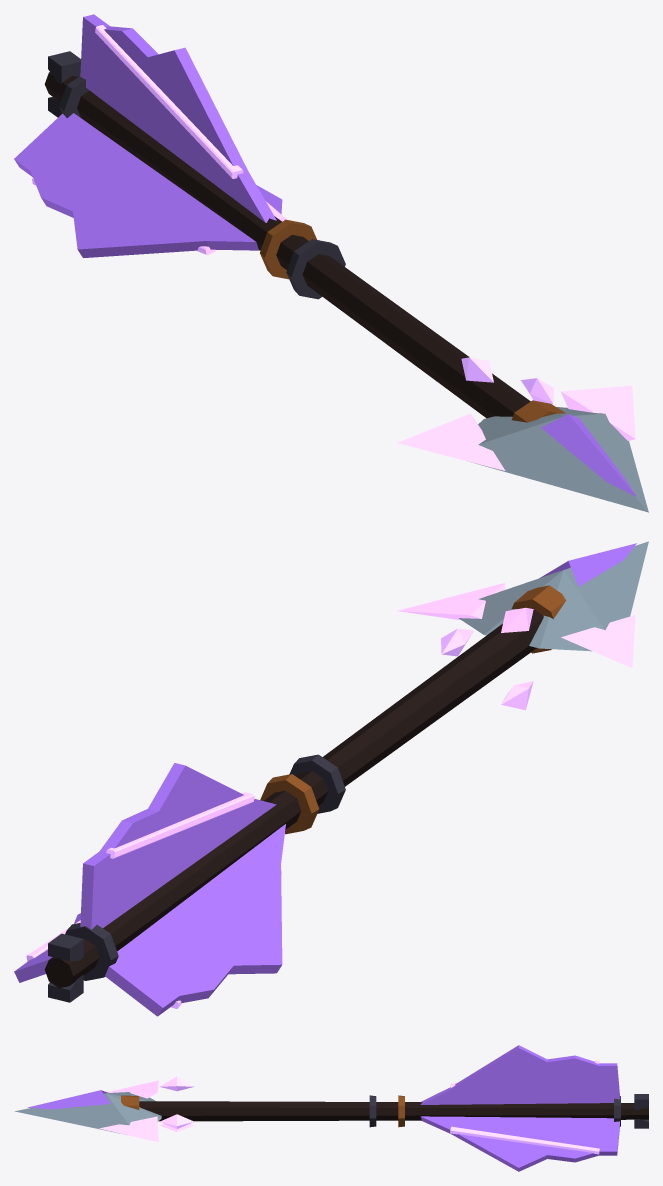
Rendered from projectile-archer-piercing.glb.
The picture shows the model from 3 angles, top to bottom: view 1: azimuth 30°, elevation 25°; view 2: azimuth 150°, elevation 25°; view 3: azimuth 270°, elevation 25°; orthographic projection. The views are drawn at different scales.
Parts seen in each view (by area): view 1: projectile-archer-piercing; view 2: projectile-archer-piercing; view 3: projectile-archer-piercing.
Boxes of the visible parts, left/top/right/bottom form: projectile-archer-piercing: left=14, top=14, right=648, bottom=512; projectile-archer-piercing: left=14, top=541, right=648, bottom=1016; projectile-archer-piercing: left=15, top=1045, right=648, bottom=1171.
Size of the model in its own units: 0.256 by 0.1927 by 1.11.
1 material, 1 textured.
